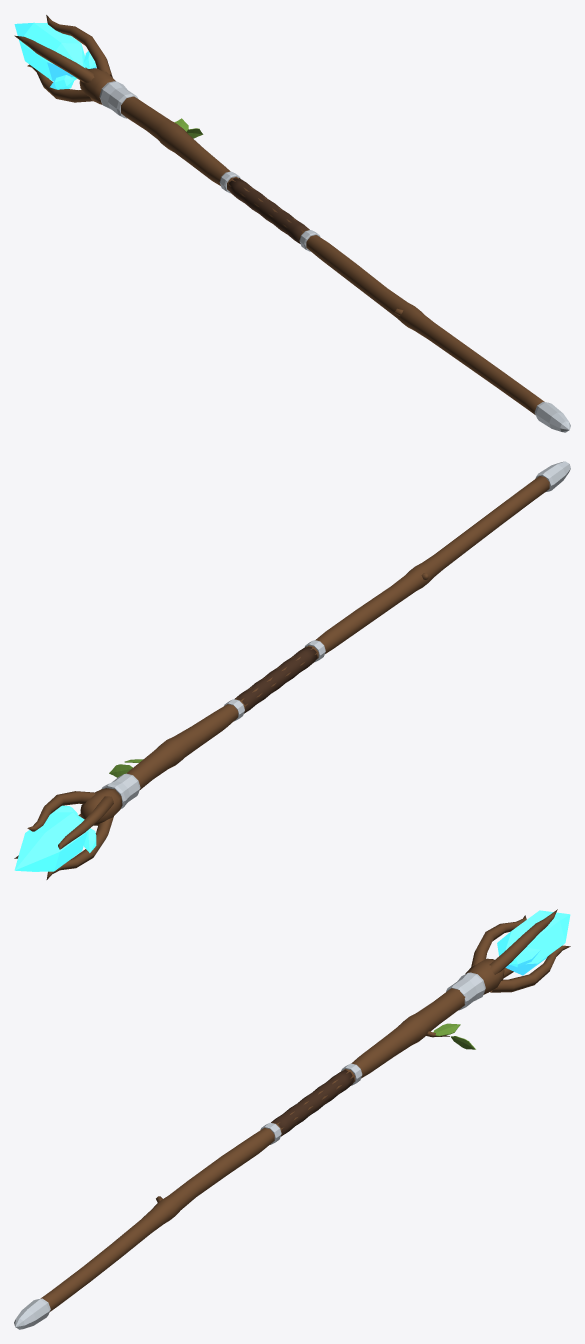
File: OakStaff.fbx
3 views of the same model, one above another, from view 1: azimuth 30°, elevation 25°; view 2: azimuth 150°, elevation 25°; view 3: azimuth 330°, elevation 25° (orthographic).
Parts seen in each view (by area): view 1: Shaft, Roots, Crystal, Silver, Wrap; view 2: Shaft, Crystal, Roots, Wrap, Silver; view 3: Shaft, Roots, Crystal, Silver, Wrap.
Boxes of the visible parts, box(x1,y1,x2,y2) form: Shaft: box(121, 96, 544, 414); Roots: box(14, 15, 115, 104); Crystal: box(14, 22, 96, 89); Silver: box(99, 81, 570, 432); Wrap: box(228, 178, 309, 243); Shaft: box(126, 476, 549, 789); Crystal: box(14, 805, 96, 871); Roots: box(14, 788, 122, 879); Wrap: box(234, 646, 317, 713); Silver: box(101, 461, 570, 808); Shaft: box(41, 988, 465, 1311); Roots: box(465, 909, 570, 994); Crystal: box(497, 910, 570, 975); Silver: box(14, 972, 485, 1329); Wrap: box(271, 1070, 353, 1136).
Size of the model in its own units: 0.133 by 1.71 by 0.0929.
